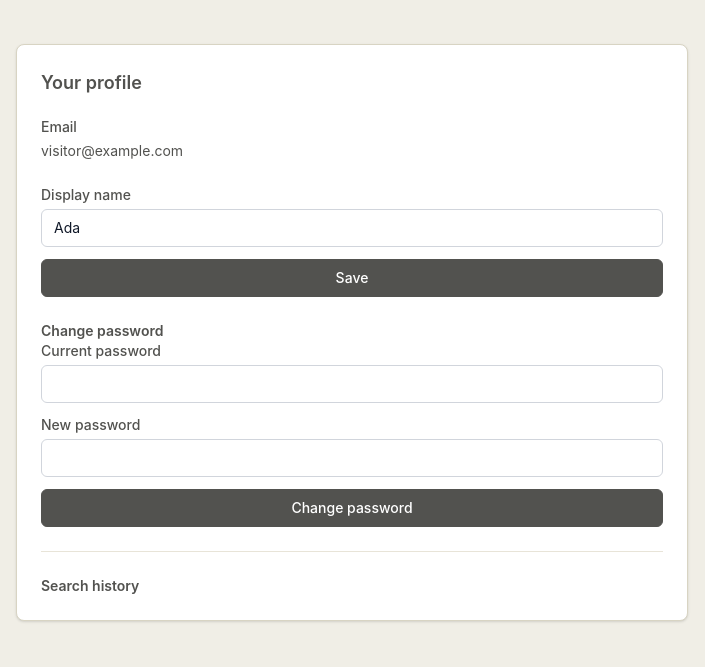
Scenario: ProfilePage › saves an edited display name
The image size is (705, 667).
Step 1. Replace the text in the field showing "Ada" with "Ada Lovelace" → (352, 228), box [41,208,663,246]
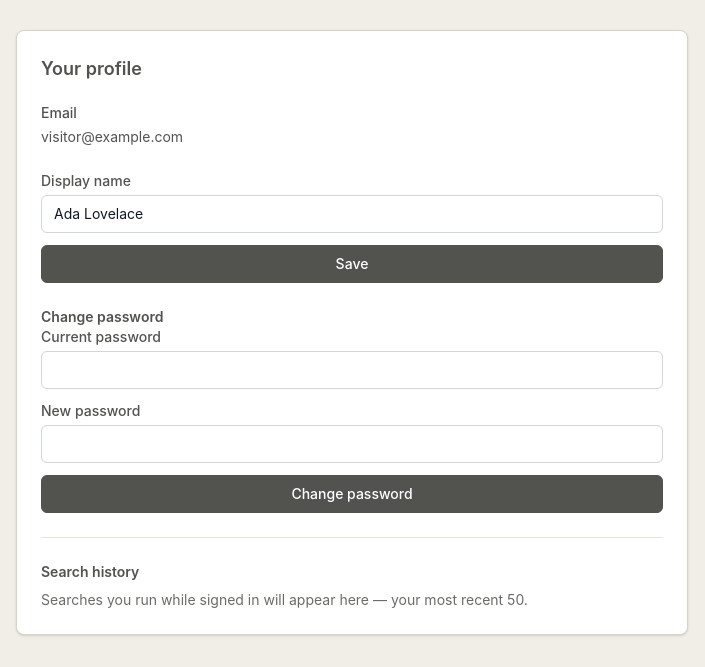
Step 2. Click the button "Save" → (352, 264), box [41,244,663,282]
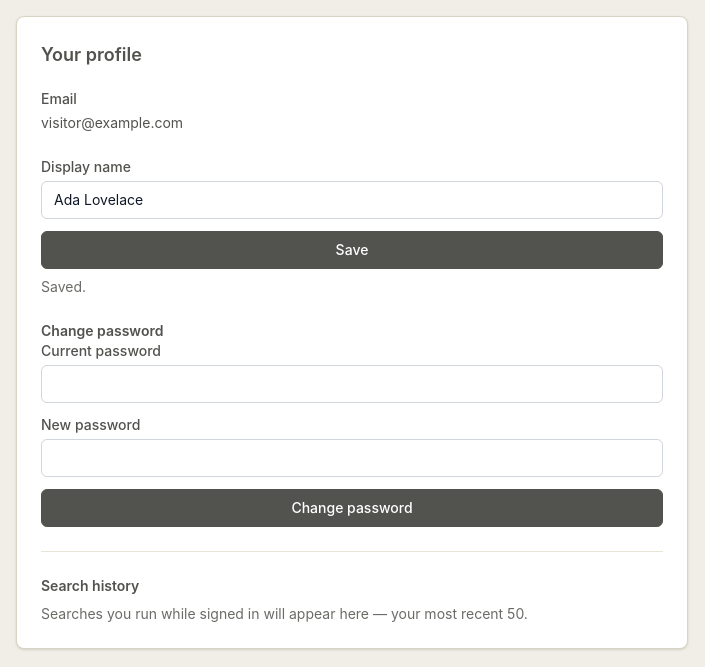
Result: the message "Saved." is shown at [41,278,86,294]
